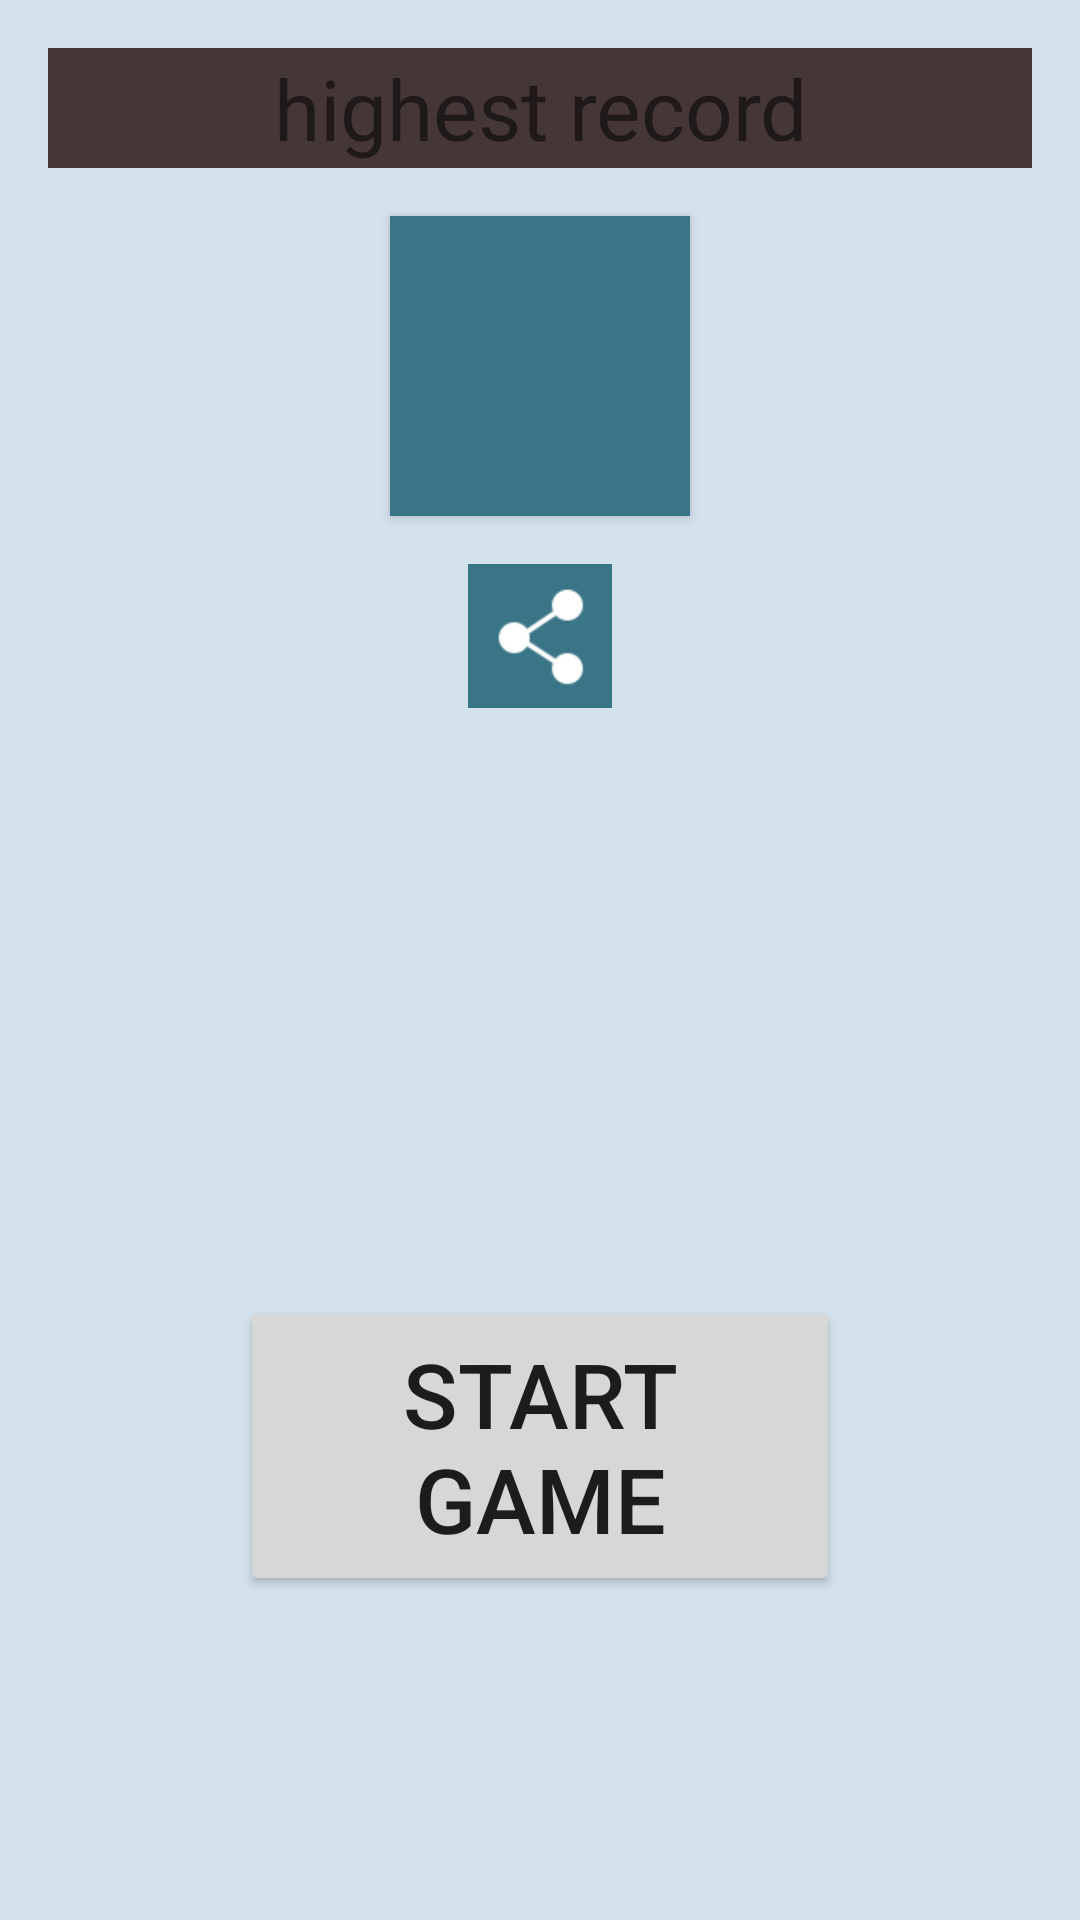

Icon bounding boxes for this 1080w x 1920h phone screenshot, format BBox(x1, y1, x2, y2):
yd share press: BBox(468, 564, 612, 708)
